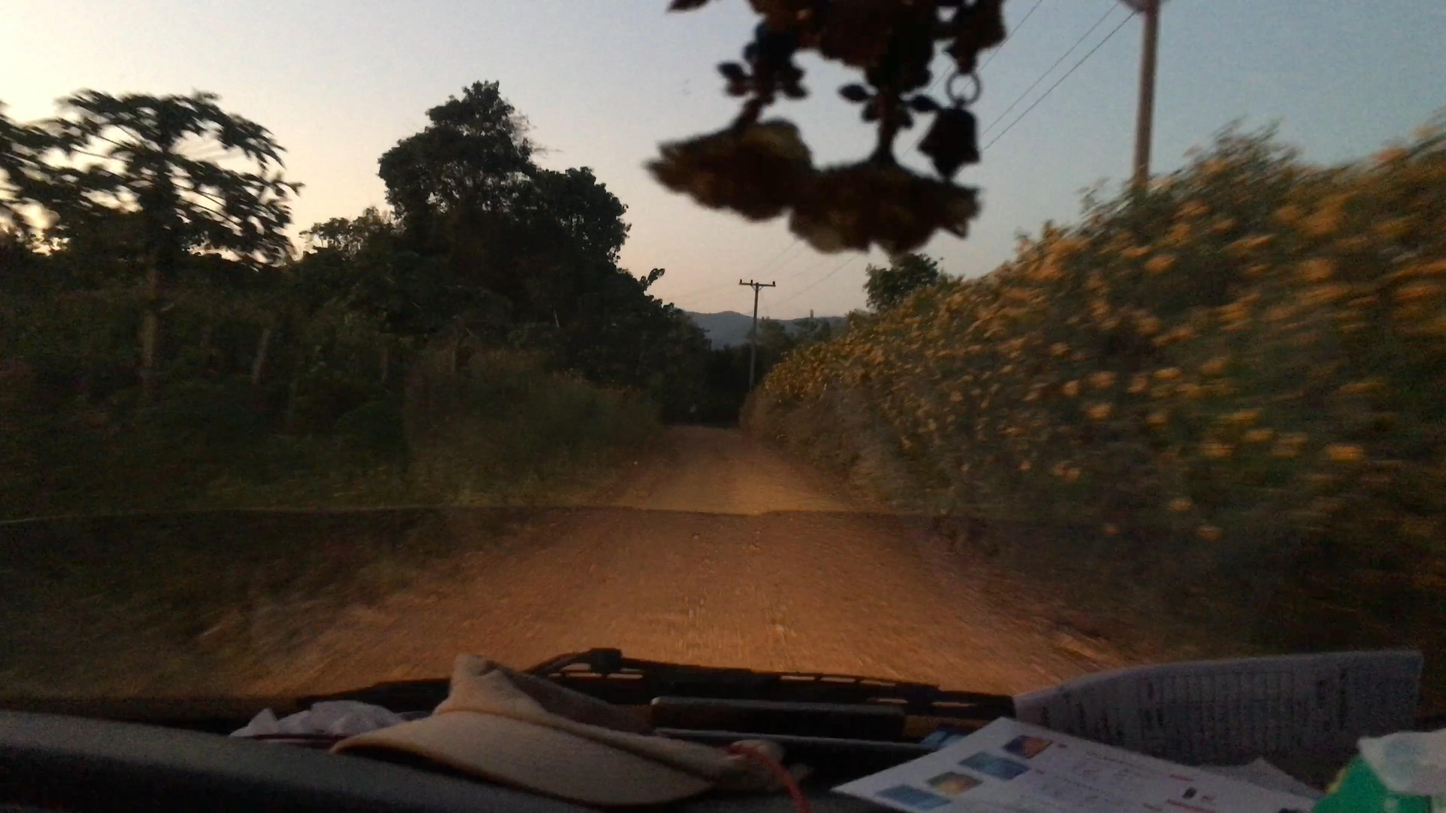dry: (145, 421, 1129, 700)
